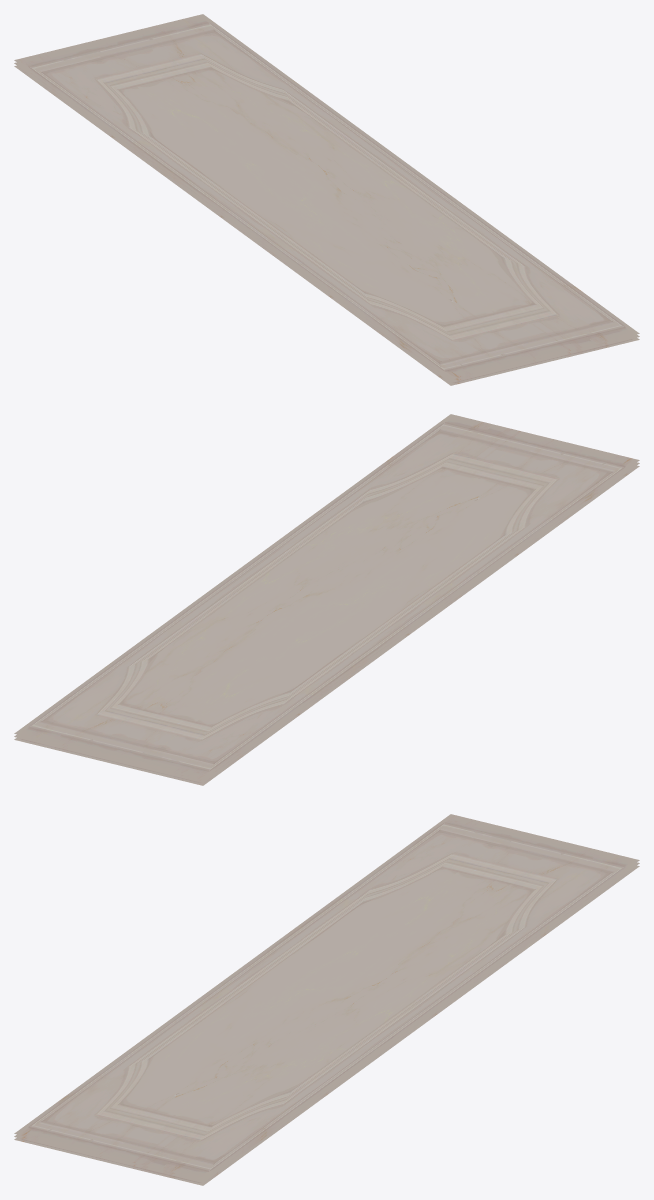
The model's file is Homeworld_Interior_Fd_Room_O_Ceiling_01_Vo.fbx.
3 views of the same model, one above another, from view 1: azimuth 30°, elevation 25°; view 2: azimuth 150°, elevation 25°; view 3: azimuth 330°, elevation 25° (orthographic).
Parts seen in each view (by area): view 1: Homeworld_Interior_Fd_Room_Ceiling_01_Vo (1), Homeworld_Interior_Fd_Room_Ceiling_01_Vo; view 2: Homeworld_Interior_Fd_Room_Ceiling_01_Vo (1), Homeworld_Interior_Fd_Room_Ceiling_01_Vo; view 3: Homeworld_Interior_Fd_Room_Ceiling_01_Vo (1), Homeworld_Interior_Fd_Room_Ceiling_01_Vo.
Part boxes in pixels (<box>): Homeworld_Interior_Fd_Room_Ceiling_01_Vo (1): <box>14,14,639,382</box>; Homeworld_Interior_Fd_Room_Ceiling_01_Vo: <box>342,305,639,385</box>; Homeworld_Interior_Fd_Room_Ceiling_01_Vo (1): <box>14,414,639,782</box>; Homeworld_Interior_Fd_Room_Ceiling_01_Vo: <box>14,705,311,785</box>; Homeworld_Interior_Fd_Room_Ceiling_01_Vo (1): <box>14,814,639,1182</box>; Homeworld_Interior_Fd_Room_Ceiling_01_Vo: <box>14,1105,311,1185</box>.
Size of the model in its own units: 5 by 0.152 by 20.
